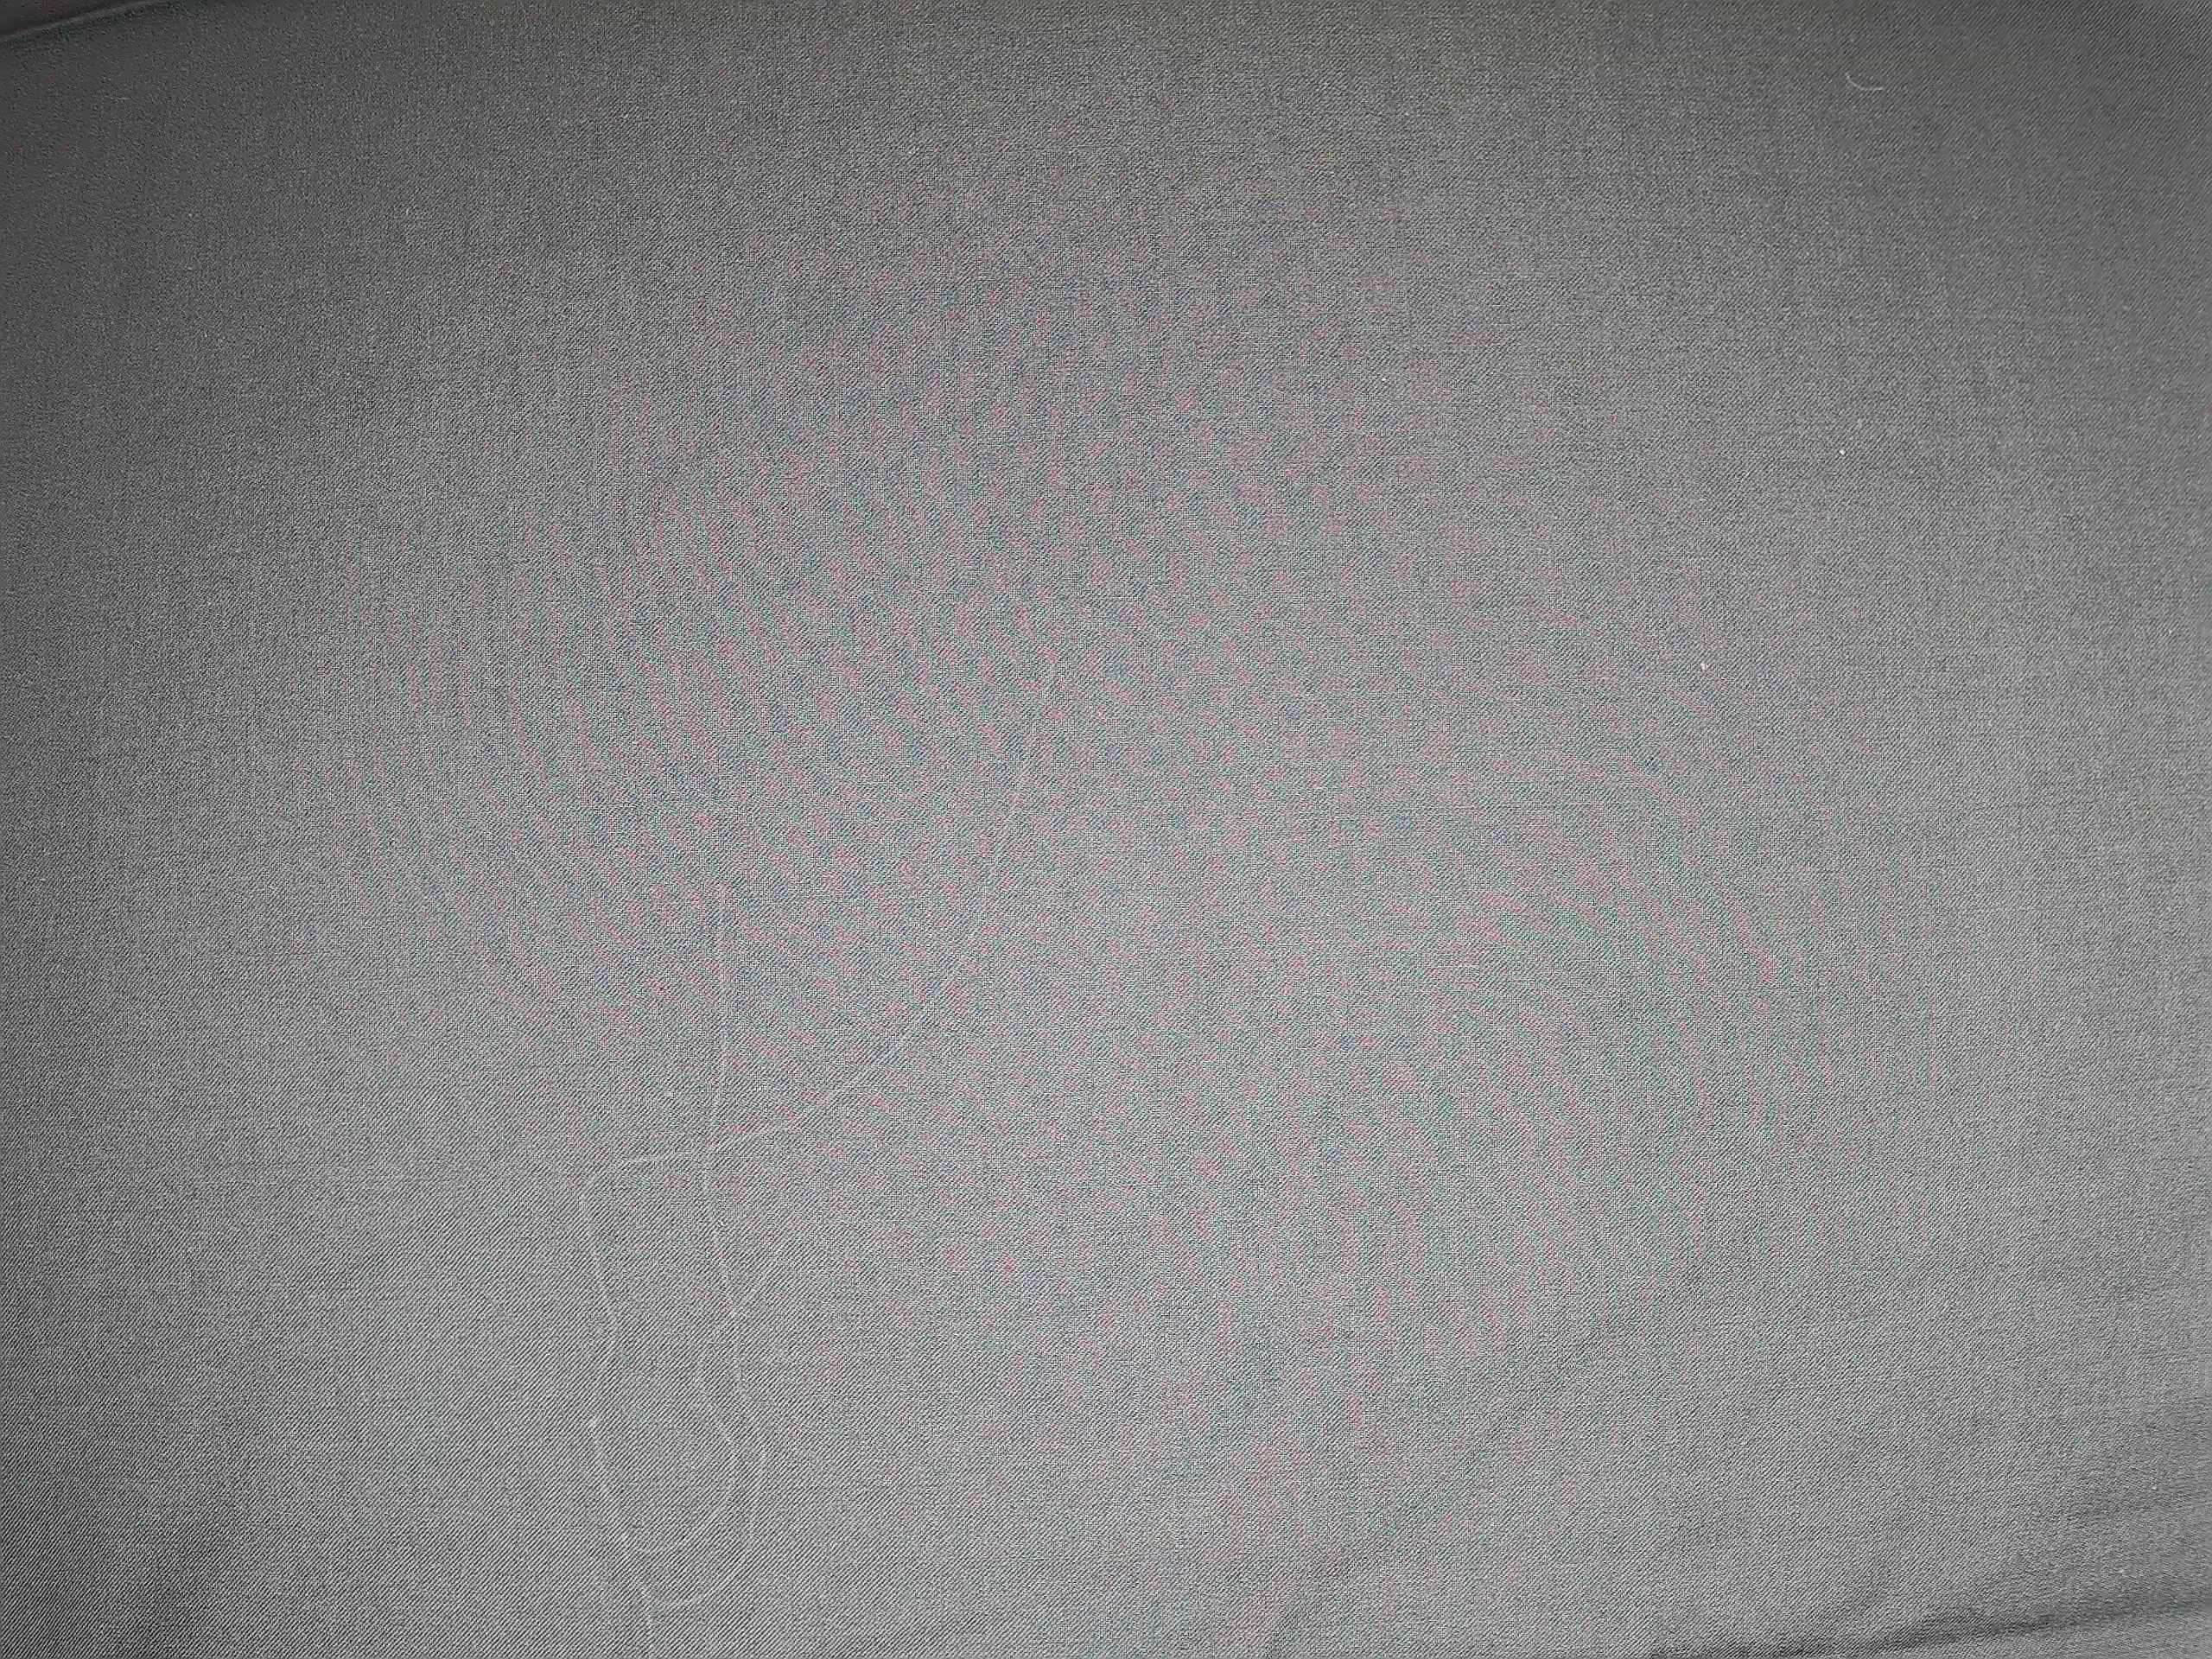others: (547, 627, 1066, 1659)
